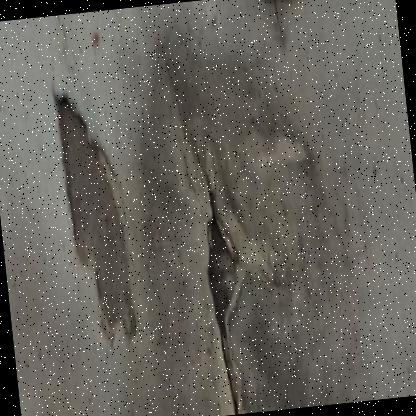Crack: (143, 53, 294, 415), (40, 53, 152, 378), (256, 0, 292, 58)
